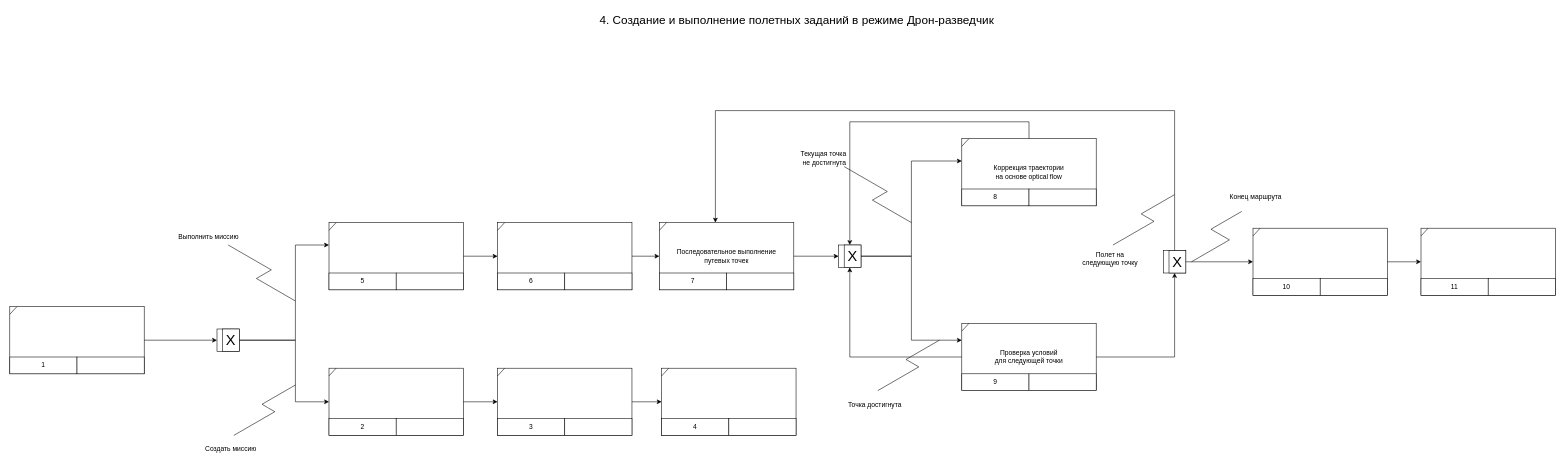
The diagram is 1565 pixels wide and 473 high, and some of its shapes have lost their labels. Each missing label, with the box of its shape:
Выбор типа операции: (9, 306, 144, 374)
Завершение миссии и возврат на базу: (1252, 228, 1387, 295)
Загрузка миссии из базы или файла конфигурации: (328, 222, 463, 290)
Инициализация параметров полета и безопасности: (497, 222, 632, 290)
Получение параметров миссии от оператора/автоматически: (328, 368, 463, 435)
Сохранение миссии в локальное хранилище: (661, 368, 796, 435)
Сохранение результатов полета и логов: (1420, 228, 1555, 295)
Формирование маршрута из путевых точек: (497, 368, 632, 435)
